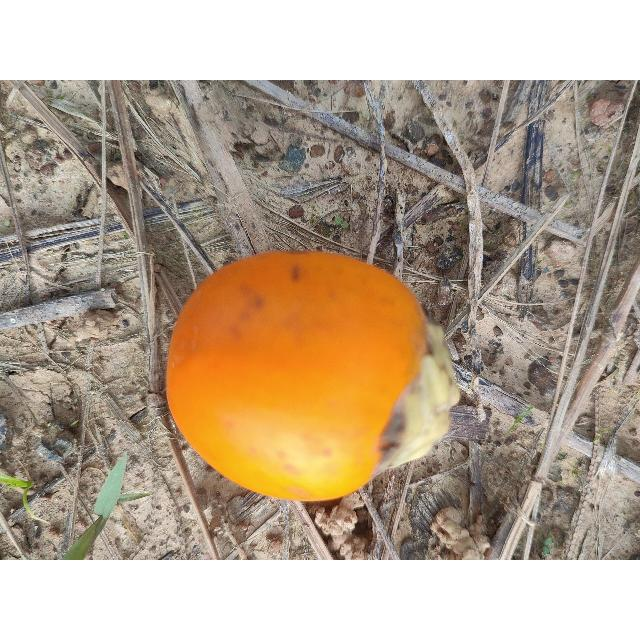good: (164, 251, 463, 504)
